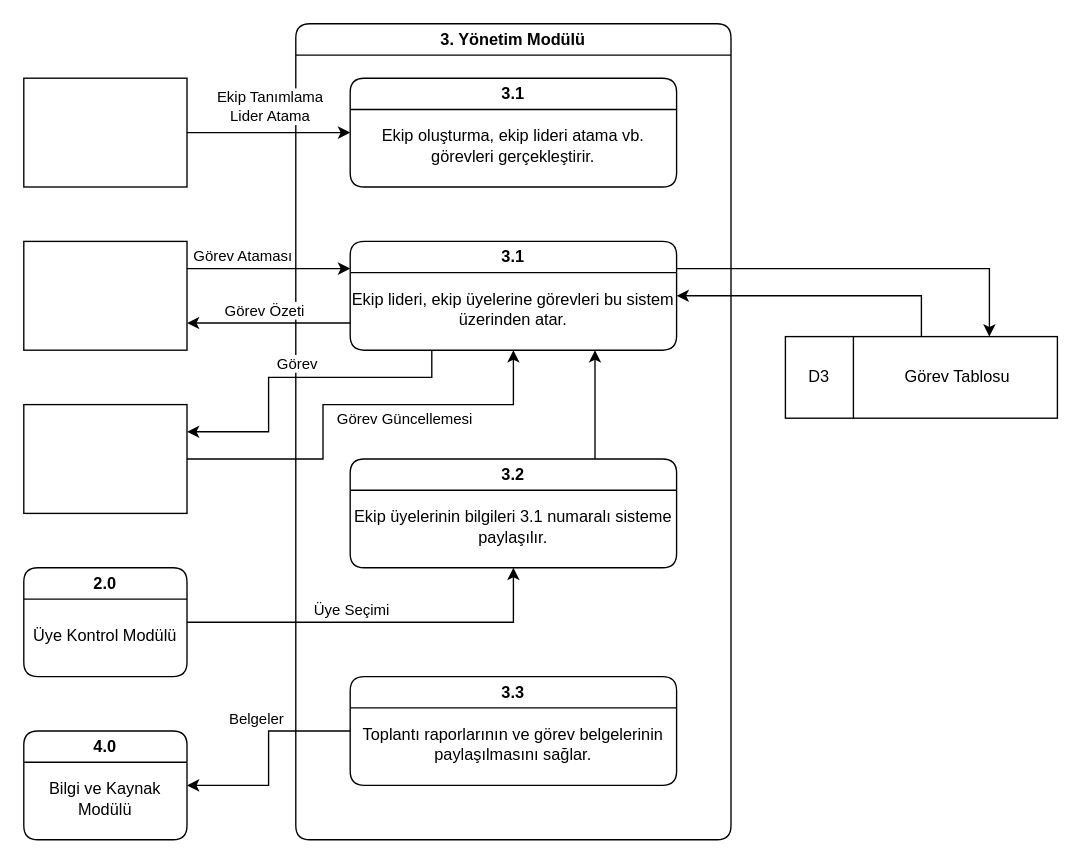
Some shapes in this 1081 by 864 pixel diagram are drawn without their labels. The shapes that lost their labels are listed below. From the top down, each one's centre as x and y in pixels, then its label:
(104,132): Kulüp Yöneticisi
(104,295): Ekip Lideri
(104,458): Ekip Üyesi
